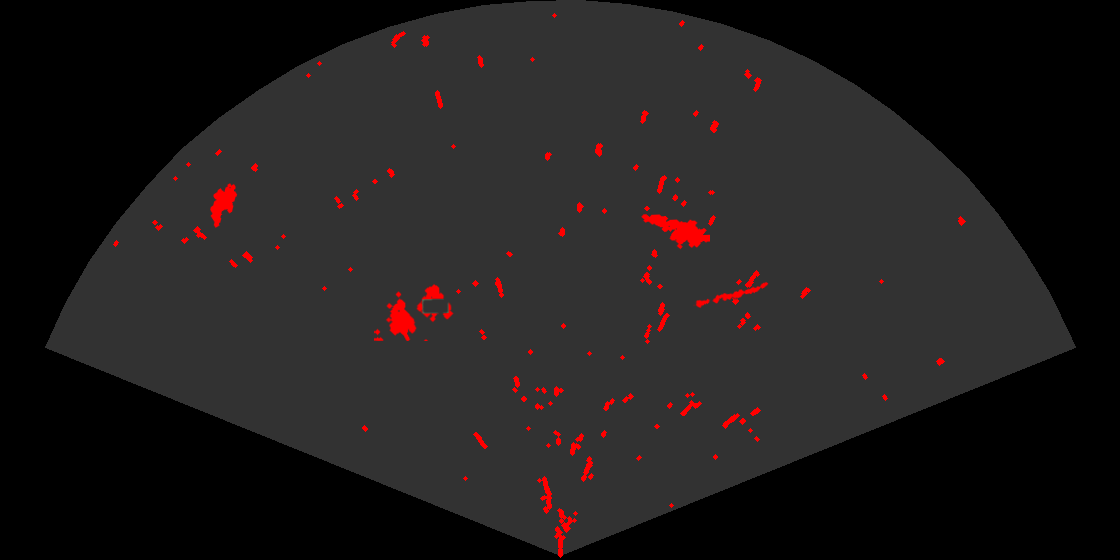AUV: (209, 182, 239, 229)
cage: (374, 283, 455, 341)
chain: (693, 280, 770, 310)
frogman: (640, 213, 710, 251)
